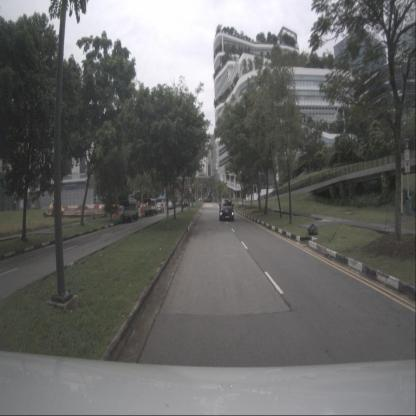barrier: (113, 208, 118, 218), (140, 207, 144, 218), (136, 207, 140, 218), (99, 205, 104, 209), (94, 205, 99, 209)
